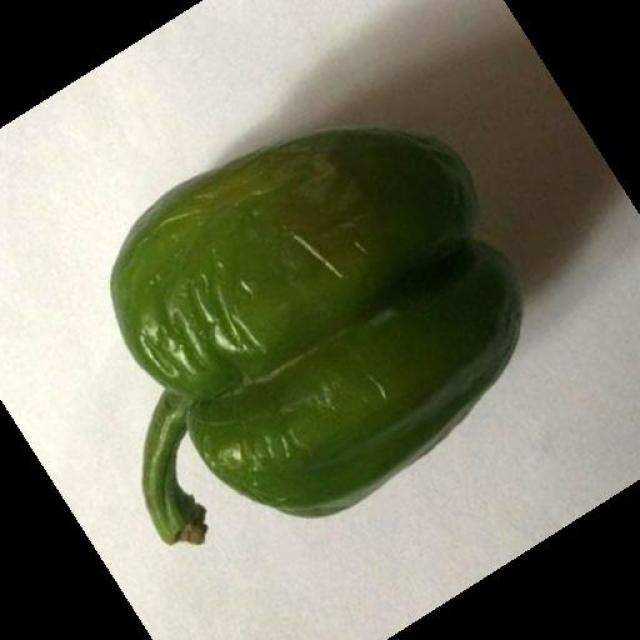Stale_Capsicum: (64, 131, 565, 482)
